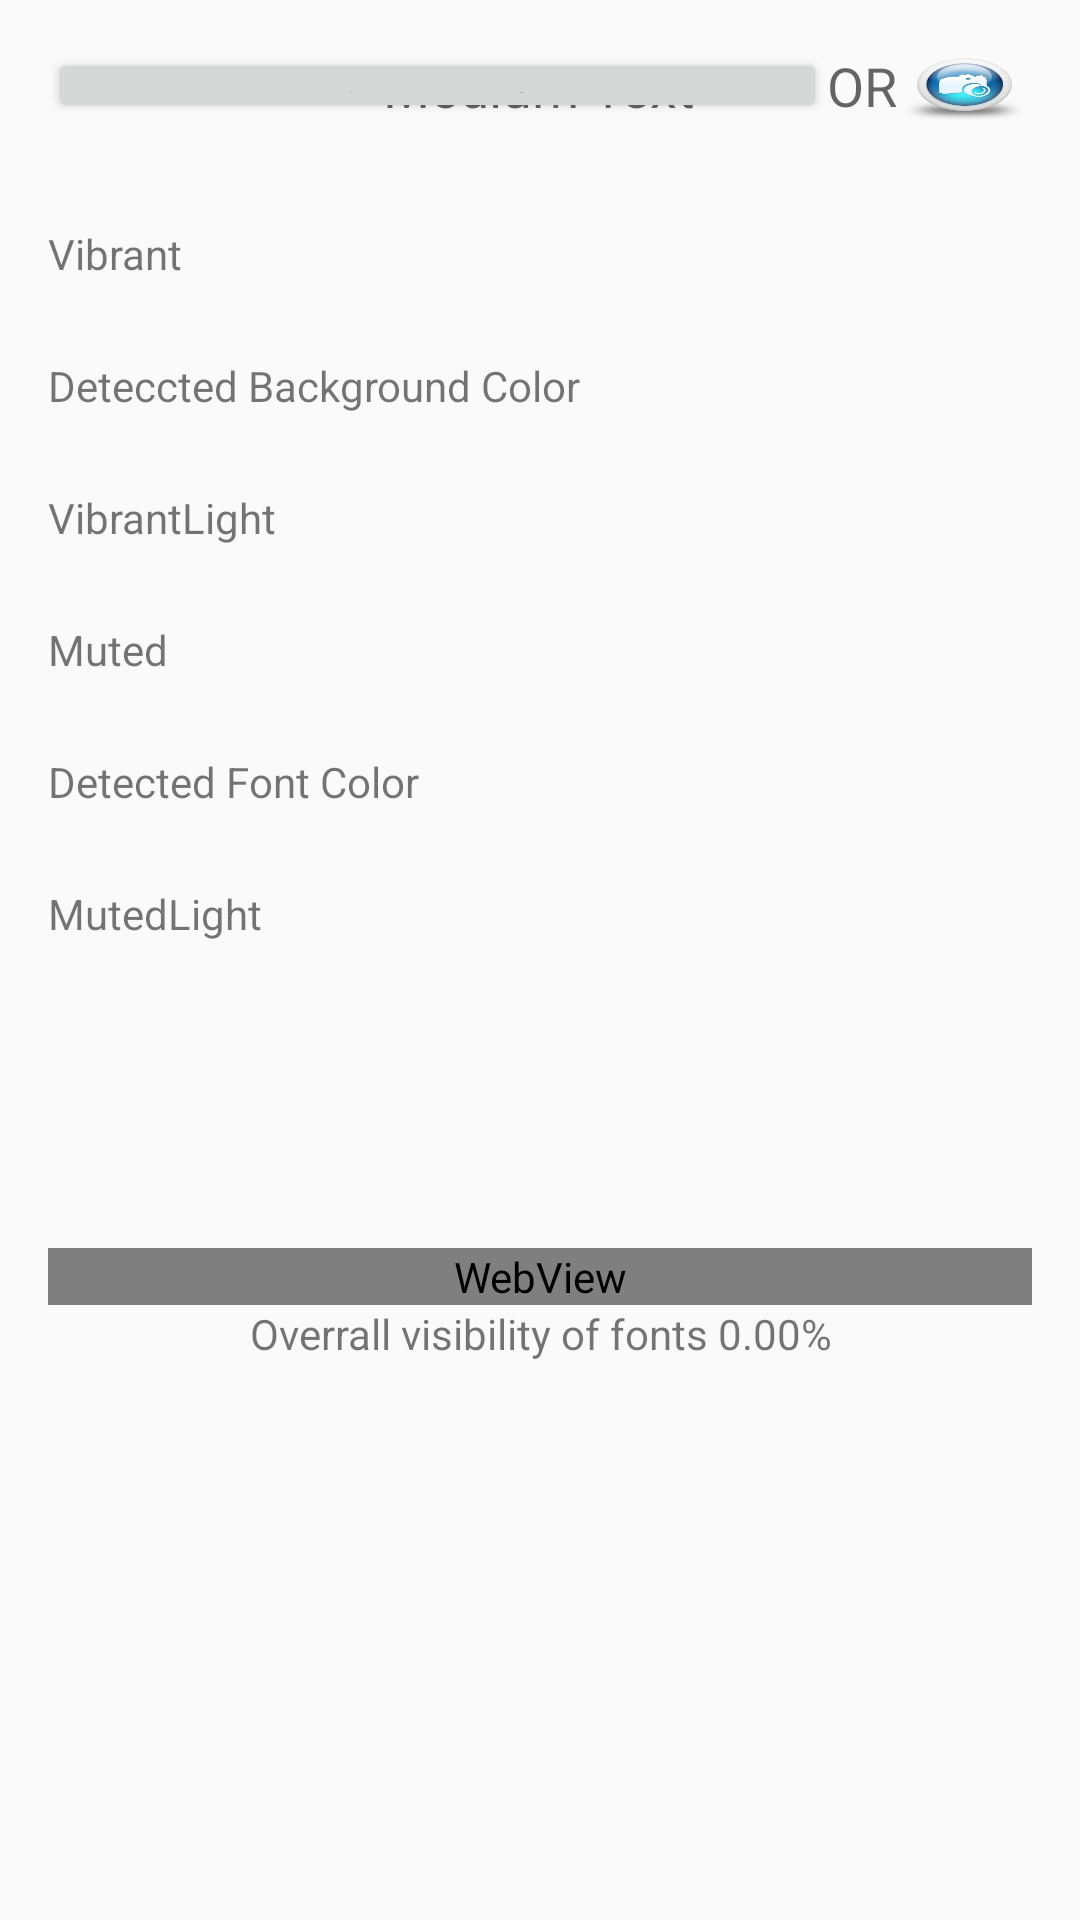

Named icons in this screenshot (1080 x 1920) and their centers, (x,y):
cam: (964,88)
